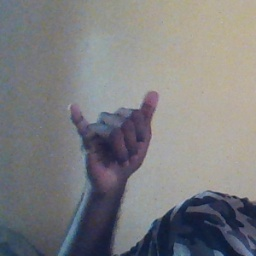J: (68, 85, 166, 187)
